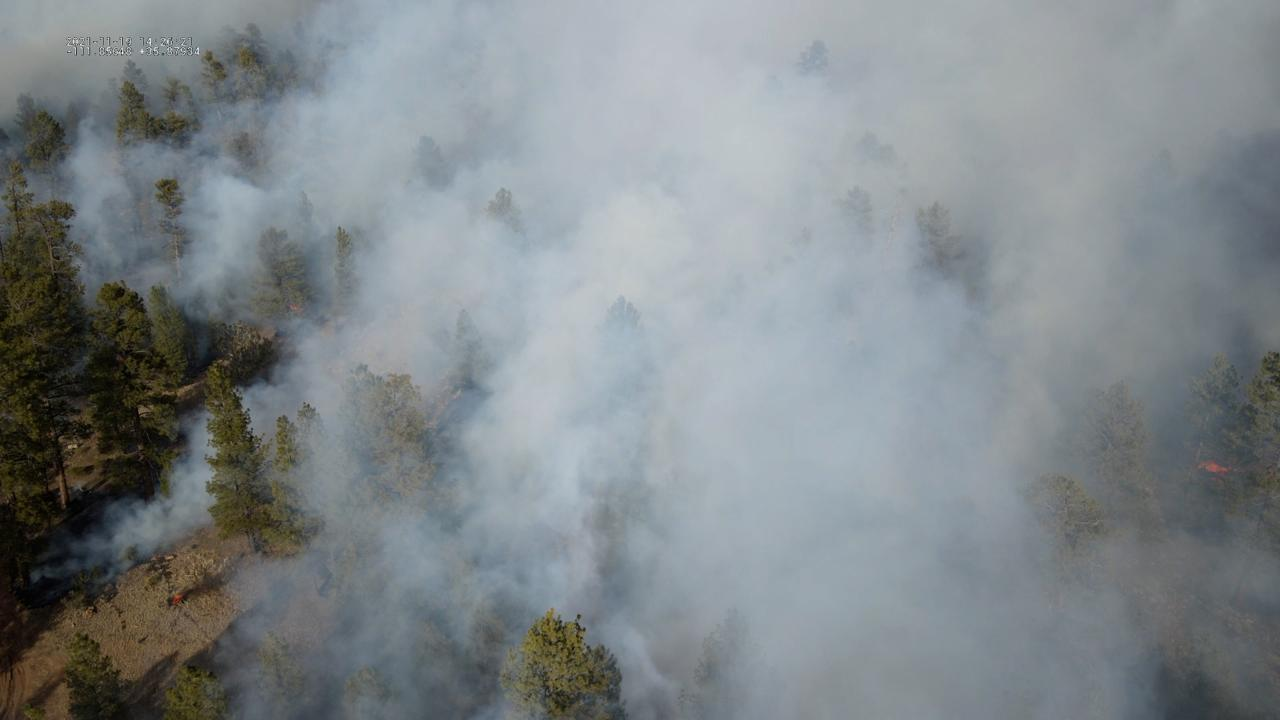fire: (1193, 460, 1234, 480), (171, 593, 185, 605), (287, 302, 300, 312)
smoke: (0, 0, 1280, 720)
